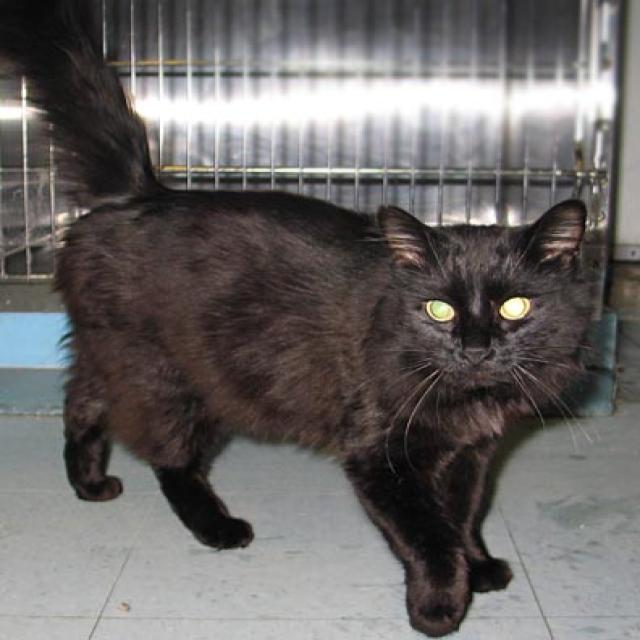Cats: (0, 0, 600, 639)
